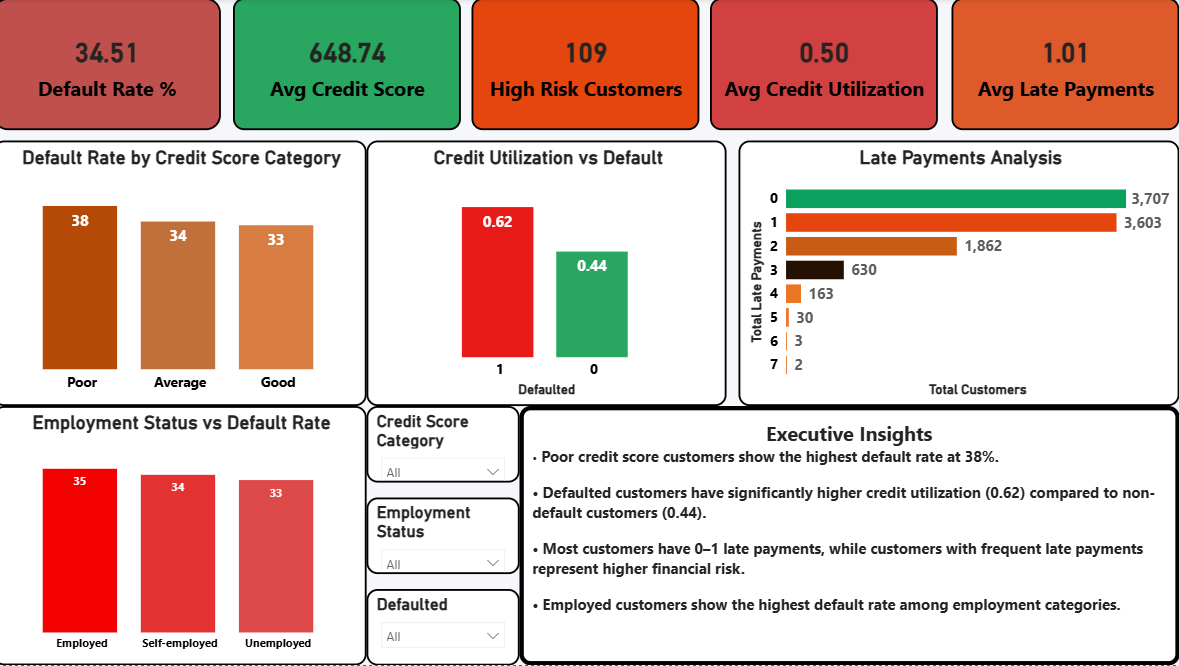

What the dashboard file says about the page in this screenshot:
{"tool":"powerbi","page":{"name":"Risk Analysis","canvas":[1280,720],"ordinal":1},"visuals":[{"type":"card","fields":{"Values":["bank bank_analysis.Default Rate %"]},"box":[0,0,246.1,142.5],"z":0},{"type":"card","fields":{"Values":["bank bank_analysis.Avg Credit Score"]},"box":[259.1,0,246.1,142.5],"z":1000},{"type":"card","fields":{"Values":["bank bank_analysis.High Risk Customers"]},"box":[516.5,0,246.1,142.5],"z":2000},{"type":"card","title":"Avg Credit Utilization","fields":{"Values":["bank bank_analysis.Avg Credit Utilization"]},"box":[774,0,246.1,142.5],"z":3000},{"type":"card","fields":{"Values":["bank bank_analysis.Avg Late Payments"]},"box":[1034.7,0,246.1,142.5],"z":4000},{"type":"clusteredColumnChart","title":"Default Rate by Credit Score Category","fields":{"Category":["bank bank_analysis.Credit Score Category"],"Y":["bank bank_analysis.Default Rate %"]},"box":[0,153.8,403.2,286.6],"z":5000},{"type":"clusteredColumnChart","title":"Credit Utilization vs Default","fields":{"Category":["bank bank_analysis.Defaulted"],"Y":["Avg(bank bank_analysis.Credit_Utilization_Ratio)"]},"box":[403.2,153.8,388.6,286.6],"z":6000},{"type":"clusteredBarChart","title":"Late Payments Analysis","fields":{"Category":["bank bank_analysis.Number_of_Late_Payments"],"Y":["bank bank_analysis.Total Customers"]},"box":[804.8,153.8,476.1,286.6],"z":7000},{"type":"clusteredColumnChart","title":"Employment Status vs Default Rate","fields":{"Category":["bank bank_analysis.Employment_Status"],"Y":["bank bank_analysis.Default Rate %"]},"box":[0,440.4,403.2,280.1],"z":8000},{"type":"slicer","title":"Credit Score Category","fields":{"Values":["bank bank_analysis.Credit Score Category"]},"box":[403.2,440.4,165.2,82.6],"z":9000},{"type":"slicer","title":"Employment Status","fields":{"Values":["bank bank_analysis.Employment_Status"]},"box":[403.2,539.2,165.2,82.6],"z":10000},{"type":"slicer","title":"Defaulted","fields":{"Values":["bank bank_analysis.Defaulted"]},"box":[403.2,638,165.2,82.6],"z":11000},{"type":"textbox","box":[568.3,440.4,712.5,280.1],"z":12000}]}

Visuals, with their boxes in screenshot pixels (x1, y1, x2, y2), scaled from the page's 1280x720 canvas onto the 1179x666 screenshot:
card - bank bank_analysis.Default Rate %: (0, 0, 227, 132)
card - bank bank_analysis.Avg Credit Score: (239, 0, 465, 132)
card - bank bank_analysis.High Risk Customers: (476, 0, 702, 132)
"Avg Credit Utilization" card: (713, 0, 940, 132)
card - bank bank_analysis.Avg Late Payments: (953, 0, 1178, 132)
"Default Rate by Credit Score Category" clusteredColumnChart: (0, 142, 371, 407)
"Credit Utilization vs Default" clusteredColumnChart: (371, 142, 729, 407)
"Late Payments Analysis" clusteredBarChart: (741, 142, 1178, 407)
"Employment Status vs Default Rate" clusteredColumnChart: (0, 407, 371, 665)
"Credit Score Category" slicer: (371, 407, 524, 484)
"Employment Status" slicer: (371, 499, 524, 575)
"Defaulted" slicer: (371, 590, 524, 665)
textbox: (523, 407, 1178, 665)
